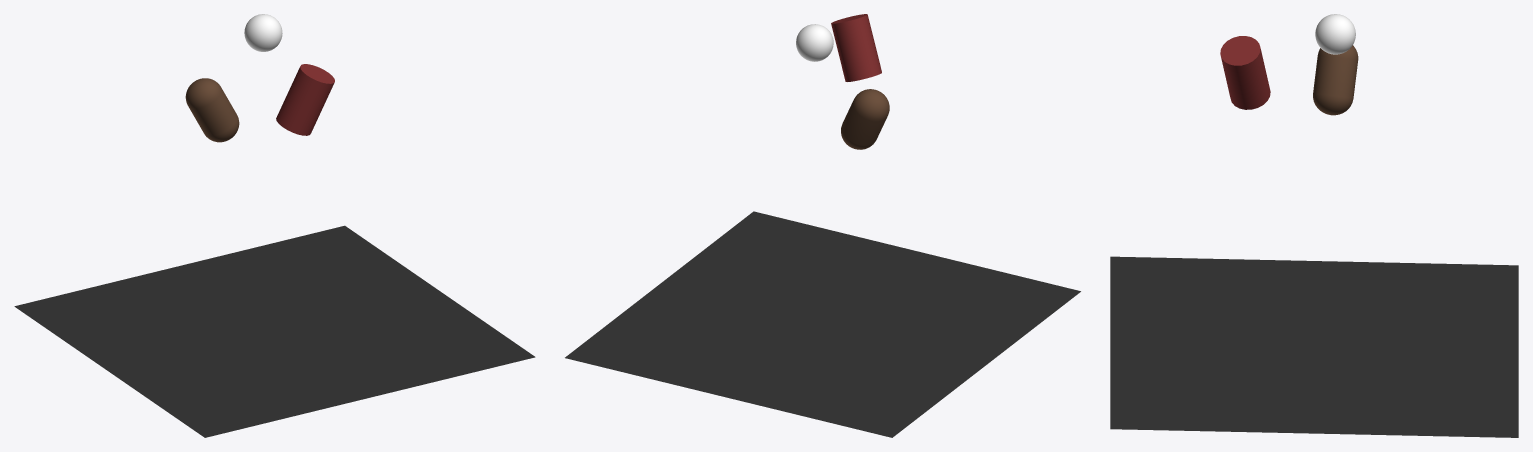
The model's file is intro.glb.
The picture shows the model from 3 angles, left to right: view 1: azimuth 30°, elevation 25°; view 2: azimuth 150°, elevation 25°; view 3: azimuth 270°, elevation 25°; orthographic projection. The views are drawn at different scales.
Parts seen in each view (by area): view 1: Plane, Cylinder, Capsule, Sphere; view 2: Plane, Cylinder, Capsule, Sphere; view 3: Plane, Cylinder, Capsule, Sphere.
Boxes of the visible parts, <box> form: Plane: <box>14,225,535,437</box>; Cylinder: <box>276,64,334,135</box>; Capsule: <box>185,78,239,142</box>; Sphere: <box>244,14,282,51</box>; Plane: <box>565,211,1080,437</box>; Cylinder: <box>831,14,881,81</box>; Capsule: <box>841,89,889,149</box>; Sphere: <box>796,24,833,61</box>; Plane: <box>1110,256,1518,437</box>; Cylinder: <box>1220,36,1270,109</box>; Capsule: <box>1313,45,1358,115</box>; Sphere: <box>1315,14,1355,54</box>.
Bounding box in the file's own units: 10 × 9.05 × 10.
